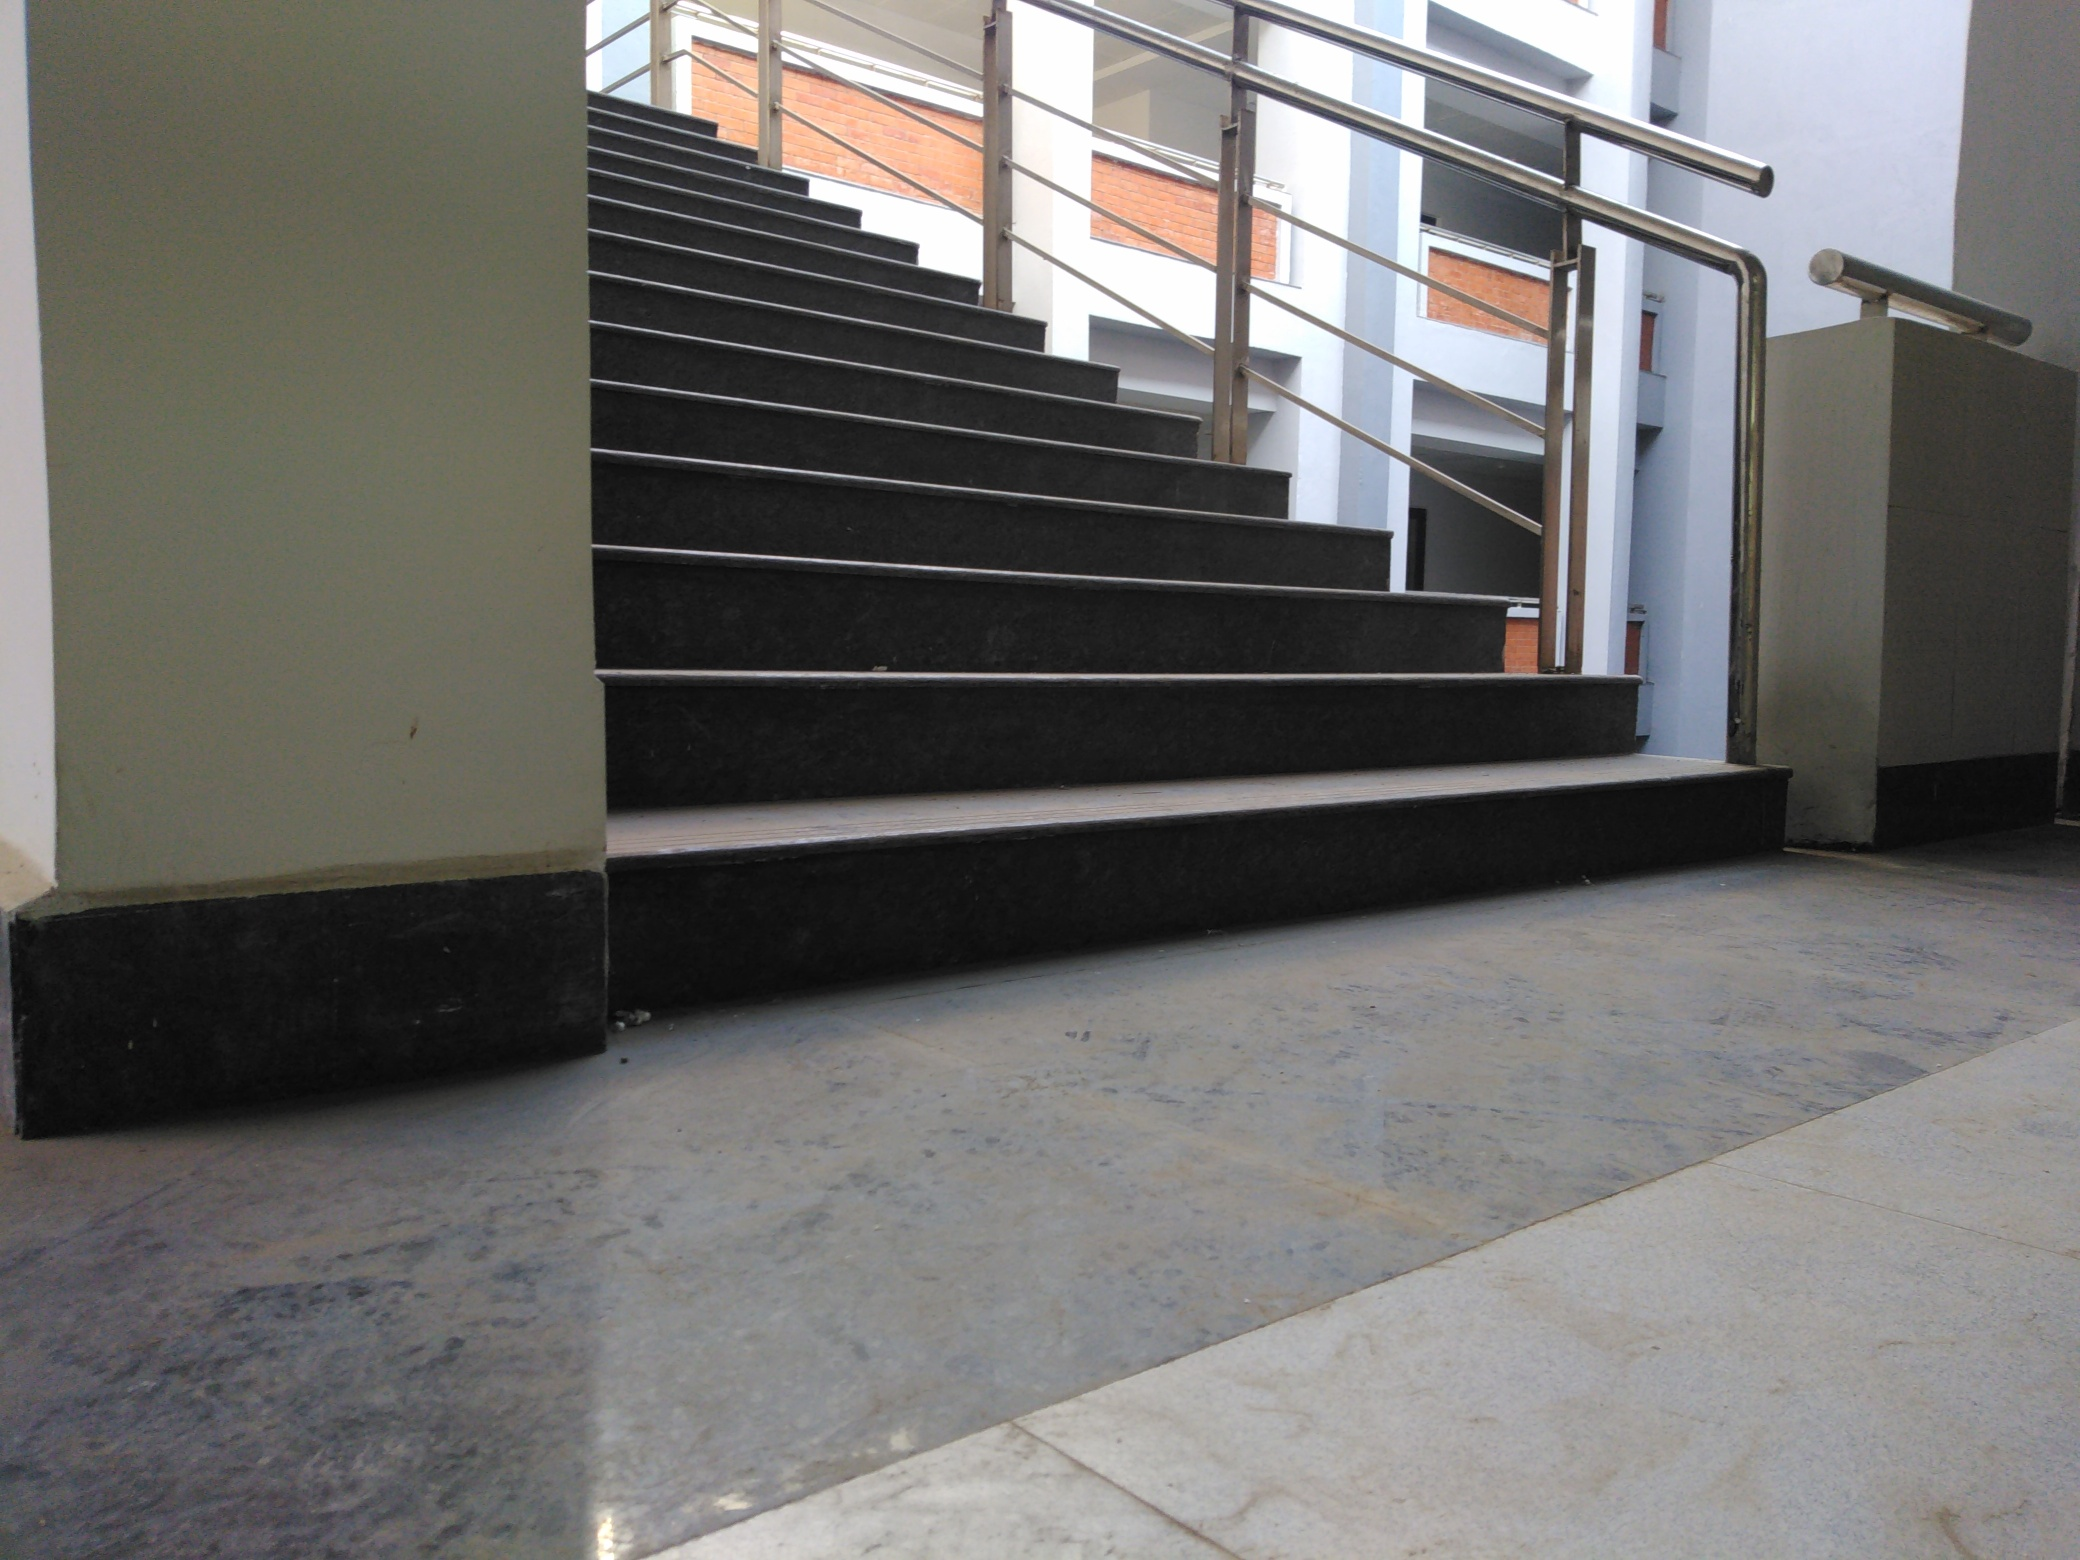stairs_up: (588, 102, 1869, 905)
